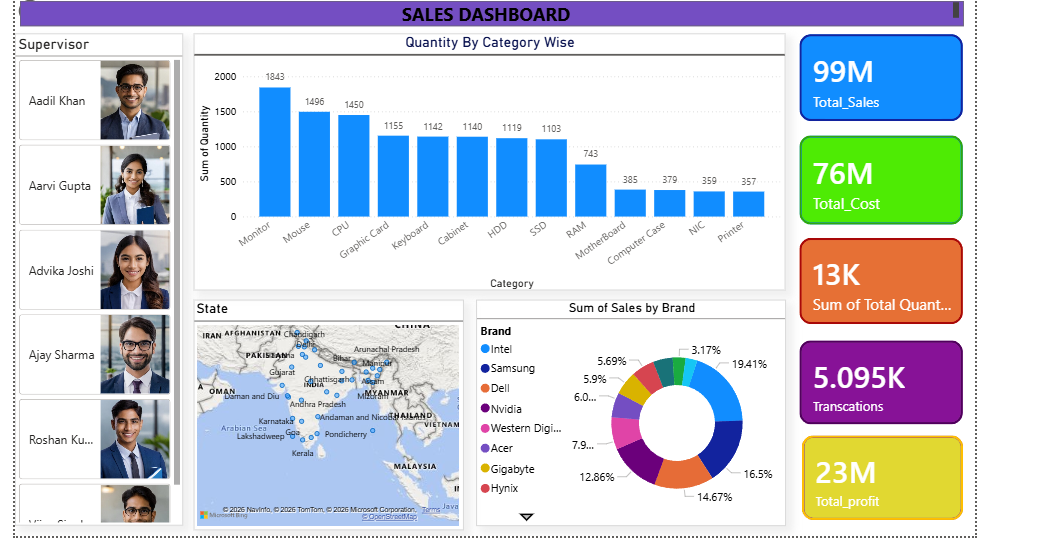

What the dashboard file says about the page in this screenshot:
{"tool":"powerbi","page":{"name":"Page 1","canvas":[1280,720],"ordinal":0},"visuals":[{"type":"cardVisual","fields":{"Data":["Sum(Complete_Techno_Sales_Data-2 xlsx.Total_Sales)"]},"box":[1045.7,50,220,118.6],"z":0},{"type":"cardVisual","fields":{"Data":["Sum(Sales_Data.Total_Cost)"]},"box":[1045.7,184.3,220,121.4],"z":1000},{"type":"cardVisual","fields":{"Data":["CountNonNull(Sales_Data.Order_Number)"]},"box":[1045.7,458.6,220,114.3],"z":2000},{"type":"clusteredColumnChart","title":"Quantity By Category Wise","fields":{"Category":["Sales_Data.Category"],"Y":["Sum(Sales_Data.Quantity)"]},"box":[238.8,50,788.8,342.5],"z":3000},{"type":"cardVisual","fields":{"Data":["Sales_Data.Total_profit"]},"box":[1048.6,585.7,217.1,115.7],"z":4000},{"type":"cardVisual","fields":{"Data":["Sum(Sales_Data.Total Quantity Sold)"]},"box":[1046.2,318.5,218.9,118.2],"z":5000},{"type":"actionButton","box":[0,0,100,40],"z":6000},{"type":"donutChart","fields":{"Category":["Sales_Data.Brand"],"Y":["Sum(Sales_Data.Sales)"]},"box":[614.3,404.3,412.9,301.4],"z":7000},{"type":"map","fields":{"Category":["State_list.State"]},"box":[238.6,404.3,360,307.1],"z":8000},{"type":"advancedSlicerVisual","fields":{"Values":["Supervisor.Supervisor"]},"box":[0,50,224.3,655.7],"z":9000},{"type":"textbox","box":[6.7,6.7,1258.3,33.3],"z":10000}]}

Visuals, with their boxes in screenshot pixels (x1, y1, x2, y2):
cardVisual - Sum(Complete_Techno_Sales_Data-2 xlsx.Total_Sales): [left=795, top=30, right=964, bottom=121]
cardVisual - Sum(Sales_Data.Total_Cost): [left=795, top=133, right=964, bottom=227]
cardVisual - CountNonNull(Sales_Data.Order_Number): [left=795, top=344, right=964, bottom=432]
"Quantity By Category Wise" clusteredColumnChart: [left=175, top=30, right=781, bottom=293]
cardVisual - Sales_Data.Total_profit: [left=797, top=442, right=964, bottom=531]
cardVisual - Sum(Sales_Data.Total Quantity Sold): [left=796, top=236, right=964, bottom=327]
actionButton: [left=0, top=0, right=69, bottom=22]
donutChart - Sales_Data.Brand x Sum(Sales_Data.Sales): [left=464, top=302, right=781, bottom=534]
map - State_list.State: [left=175, top=302, right=452, bottom=538]
advancedSlicerVisual - Supervisor.Supervisor: [left=0, top=30, right=164, bottom=534]
textbox: [left=0, top=0, right=964, bottom=22]
